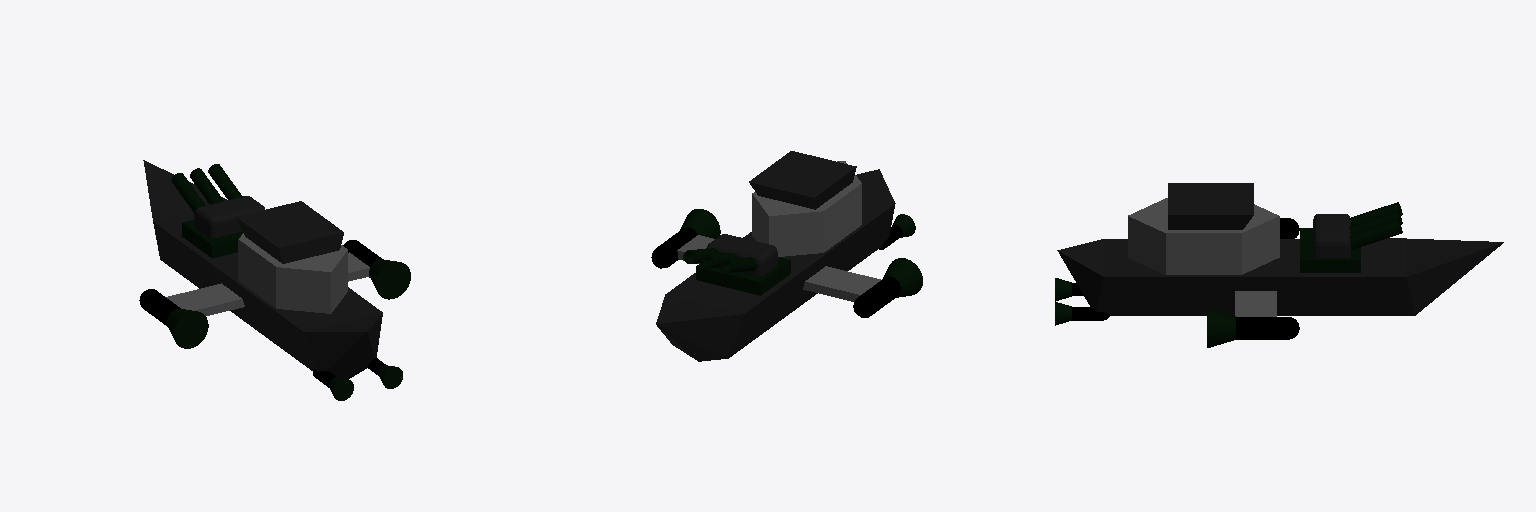
Rendered from warship1.obj.
The picture shows the model from 3 angles: view 1: azimuth 30°, elevation 25°; view 2: azimuth 150°, elevation 25°; view 3: azimuth 270°, elevation 25°; orthographic projection.
Parts seen in each view (by area): view 1: ChamferCyl001, Cylinder001, Box002, Box003, ChamferBox001, Cone001, Cone002, Box001, Capsule002, Tube001, Tube002, Tube003; view 2: ChamferCyl001, Cylinder001, Box002, Box003, Box001, ChamferBox001, Capsule002, Cone002, Capsule001, Cone001; view 3: ChamferCyl001, Cylinder001, Box002, ChamferBox001, Capsule001, Box001, Box003, Cone001, Tube003.
Boxes of the visible parts, x1=… form: ChamferCyl001: x1=143, y1=160, x2=382, y2=378; Cylinder001: x1=238, y1=233, x2=347, y2=313; Box002: x1=236, y1=201, x2=343, y2=263; Box003: x1=166, y1=252, x2=369, y2=315; ChamferBox001: x1=194, y1=196, x2=264, y2=237; Cone001: x1=369, y1=259, x2=410, y2=299; Cone002: x1=167, y1=309, x2=208, y2=348; Box001: x1=182, y1=220, x2=242, y2=258; Capsule002: x1=139, y1=289, x2=180, y2=326; Tube001: x1=171, y1=173, x2=205, y2=212; Tube002: x1=190, y1=168, x2=223, y2=204; Tube003: x1=208, y1=164, x2=242, y2=199; ChamferCyl001: x1=656, y1=169, x2=895, y2=361; Cylinder001: x1=752, y1=161, x2=861, y2=256; Box002: x1=749, y1=151, x2=856, y2=209; Box003: x1=677, y1=235, x2=880, y2=301; Box001: x1=696, y1=257, x2=790, y2=295; ChamferBox001: x1=706, y1=234, x2=777, y2=275; Capsule002: x1=853, y1=277, x2=900, y2=317; Cone002: x1=882, y1=258, x2=922, y2=297; Capsule001: x1=651, y1=227, x2=697, y2=268; Cone001: x1=680, y1=209, x2=720, y2=238; ChamferCyl001: x1=1057, y1=238, x2=1503, y2=315; Cylinder001: x1=1128, y1=198, x2=1279, y2=274; Box002: x1=1168, y1=183, x2=1253, y2=229; ChamferBox001: x1=1313, y1=214, x2=1350, y2=257; Capsule001: x1=1236, y1=317, x2=1299, y2=339; Box001: x1=1300, y1=228, x2=1360, y2=272; Box003: x1=1235, y1=291, x2=1276, y2=316; Cone001: x1=1207, y1=308, x2=1235, y2=347; Tube003: x1=1349, y1=220, x2=1402, y2=249.
Bounding box in the file's own units: 191 × 87.11 × 313.